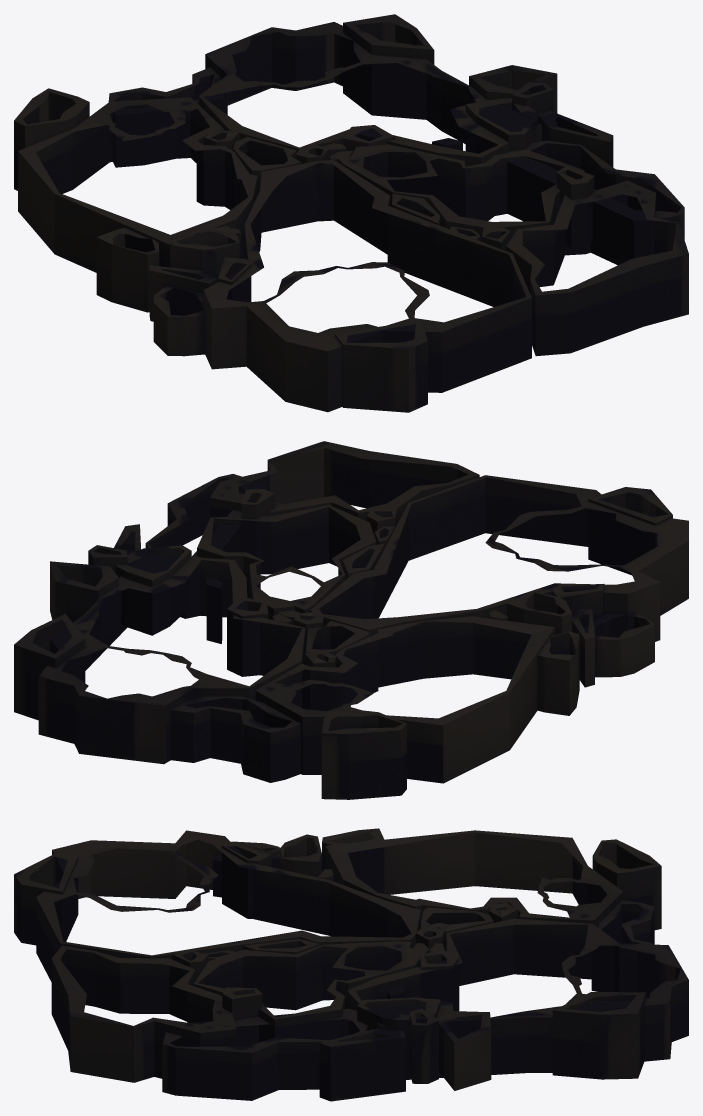
Rendered from Ground_01.FBX.
3 views of the same model, one above another, from view 1: azimuth 30°, elevation 25°; view 2: azimuth 150°, elevation 25°; view 3: azimuth 270°, elevation 25° (orthographic). The views are drawn at different scales.
Parts seen in each view (by area): view 1: Ground_01; view 2: Ground_01; view 3: Ground_01.
Part boxes in pixels (<box>): Ground_01: <box>14,14,688,412</box>; Ground_01: <box>14,441,688,799</box>; Ground_01: <box>14,828,688,1101</box>.
Size of the model in its own units: 19.45 by 2.76 by 24.23.
